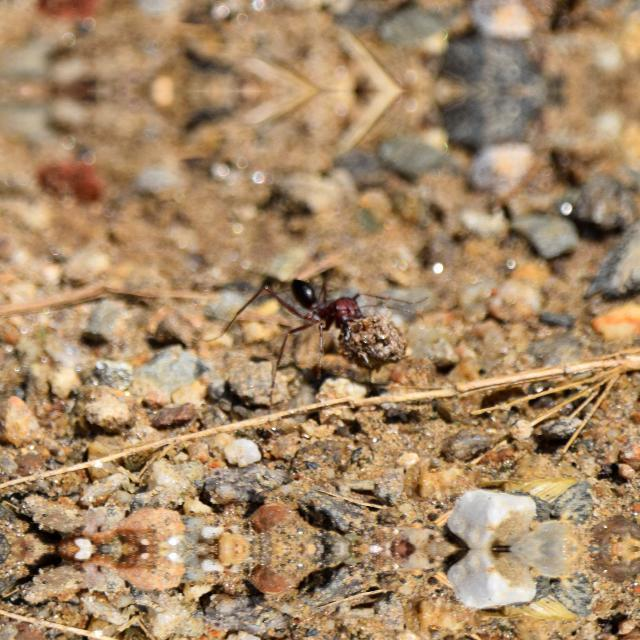Cataglyphis: (268, 268, 384, 344)
